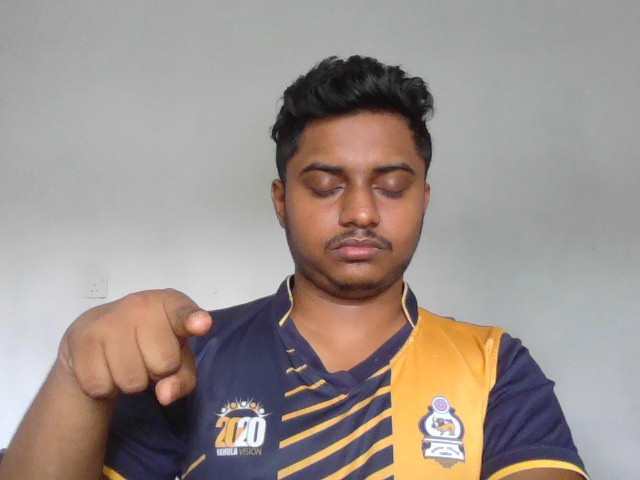Going To: (62, 282, 217, 406)
